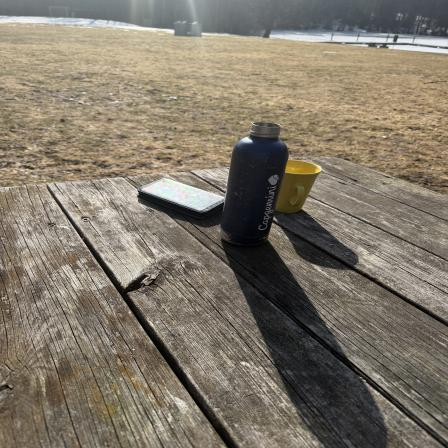blue_bottle: (228, 122, 289, 240)
phone: (137, 176, 225, 217)
yellow_cup: (279, 160, 323, 216)
